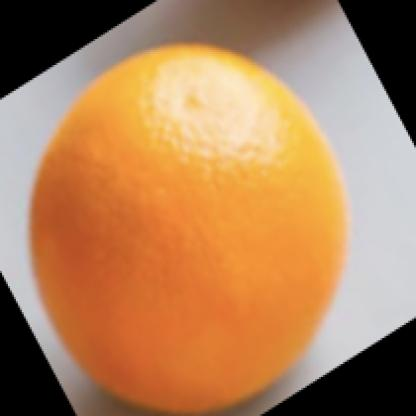fresh: (32, 46, 348, 415)
